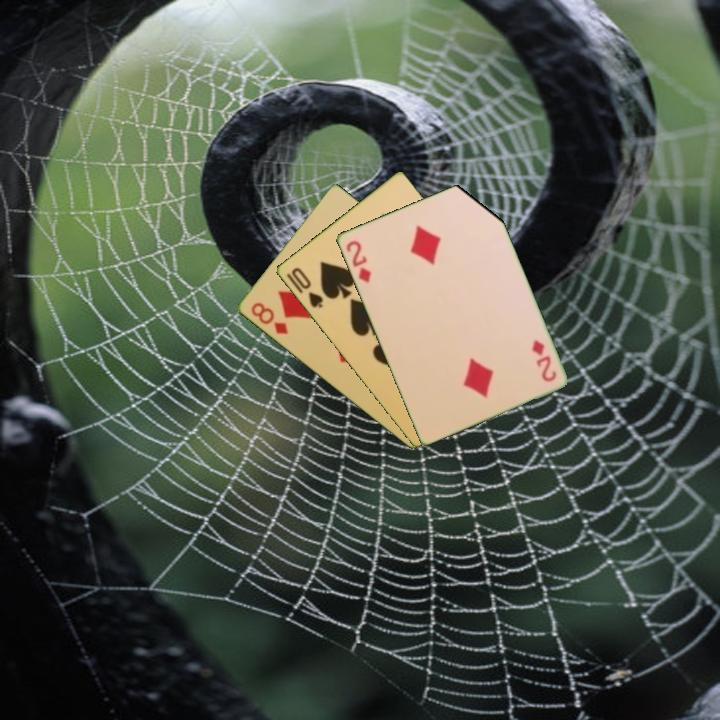10s: (287, 264, 325, 311)
2d: (342, 237, 374, 286), (528, 336, 559, 385)
8d: (247, 299, 291, 337)
